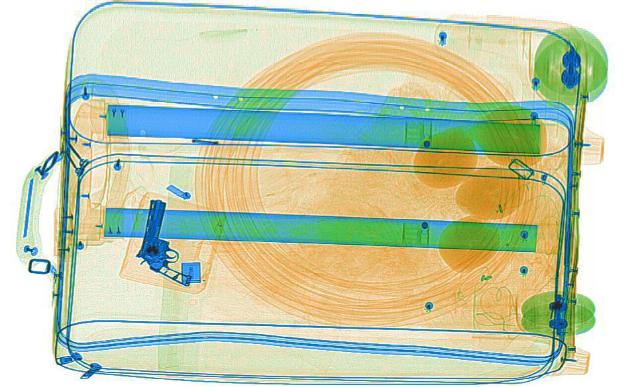Gun: (121, 196, 193, 287)
